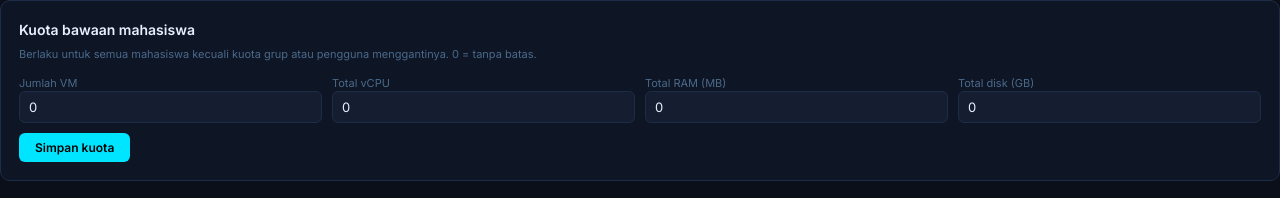
Test case: Kuota › galat server (mis. nilai tidak valid) ditampilkan
Click the button "Simpan kuota" at (75, 148), box [19,133,130,162]
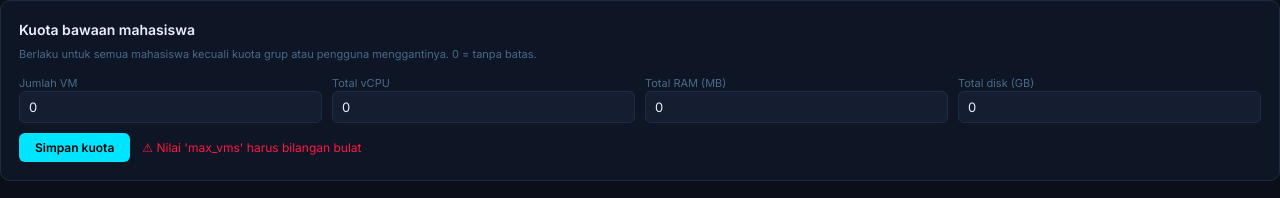
Result: the text "⚠ Nilai 'max_vms' harus bilangan bulat" is shown at [142,138,362,156]
